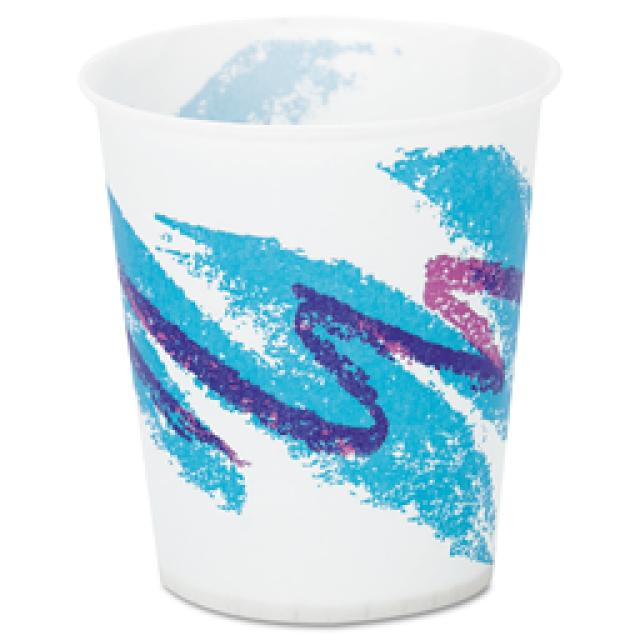paper_cups: (70, 21, 587, 627)
